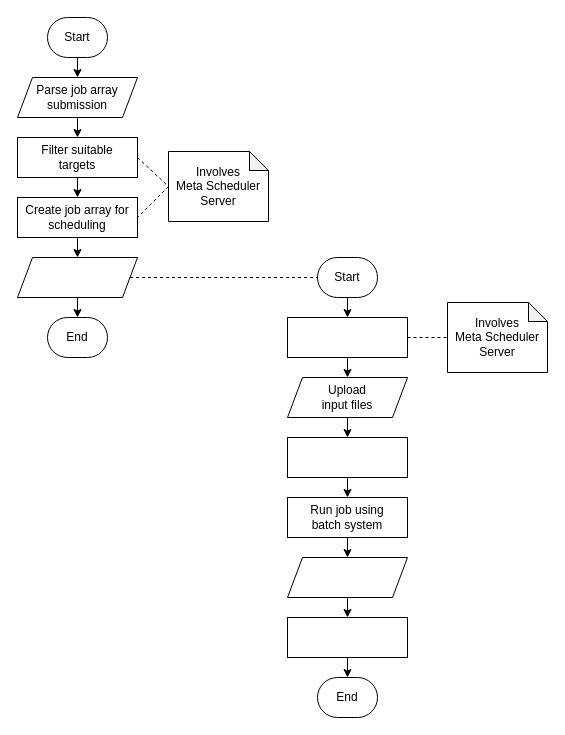
Some shapes in this 565 by 735 pixel diagram are drawn without their labels. The shapes that lost their labels are listed below. From the top down, each one's centre as x and y in pixels, then its label:
At (x=77, y=277): "Create job processes".
At (x=347, y=337): "Await job scheduling".
At (x=347, y=457): "Run setup step".
At (x=347, y=577): "Download output files".
At (x=347, y=637): "Clean up output files".
